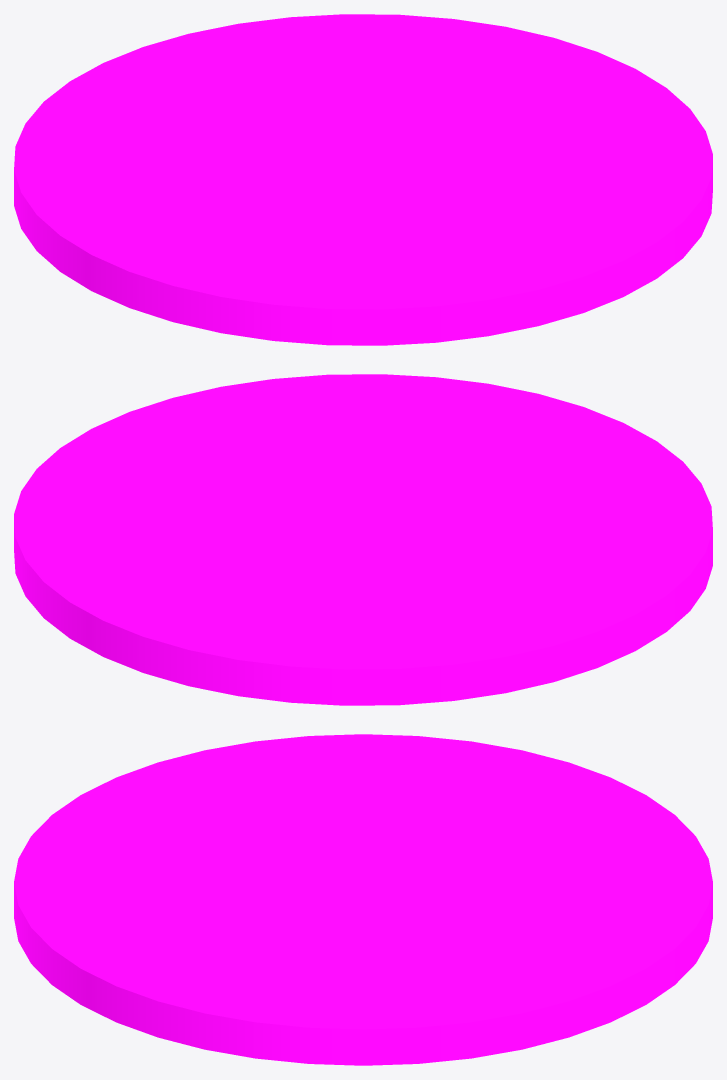
The model's file is pad-ff00ff.glb.
3 renders of one model, top to bottom at view 1: azimuth 30°, elevation 25°; view 2: azimuth 150°, elevation 25°; view 3: azimuth 270°, elevation 25°, orthographic.
Visible parts, largest first — view 1: plat; view 2: plat; view 3: plat.
Part boxes in pixels (x1,y1,x2,y2): plat: (14,14,712,345); plat: (14,374,712,705); plat: (14,734,712,1065).
Bounding box in the file's own units: 1.4 × 0.08 × 1.4.
1 material, 1 textured.
